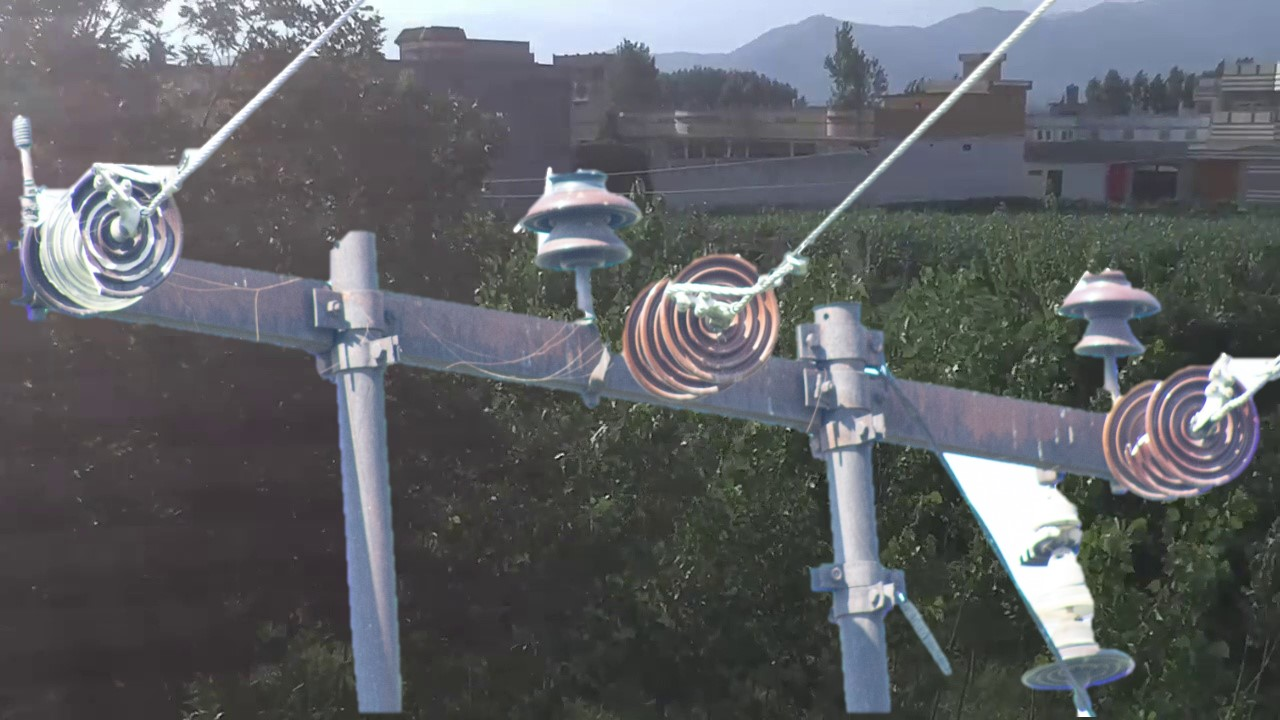defect_disc: (68, 157, 189, 302)
insulator_disc: (654, 246, 784, 387), (1142, 360, 1265, 494)
